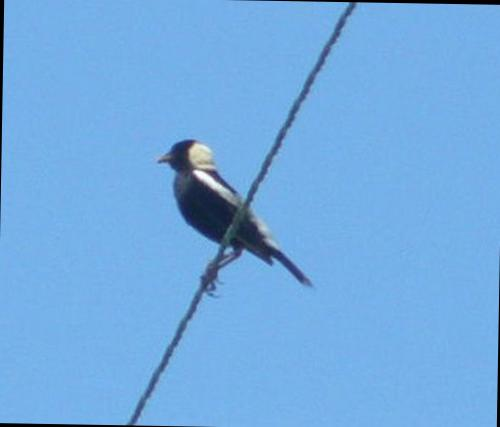bird: (146, 127, 324, 308)
